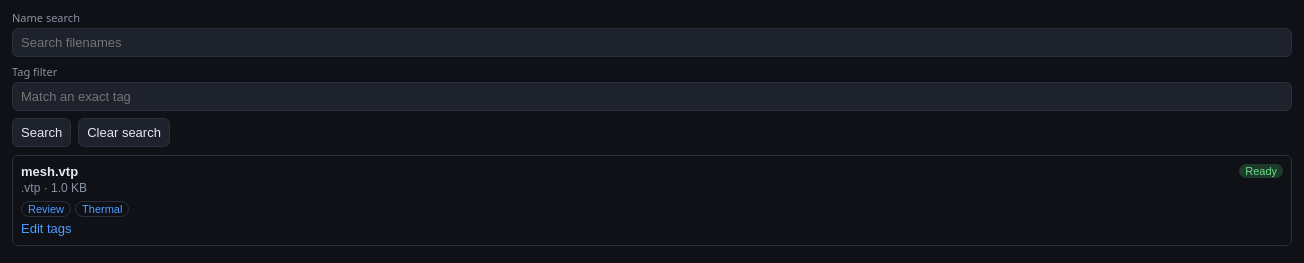
Scenario: DatasetList search › shows the filtered empty state
The width and height of the screenshot is (1304, 263).
Click the button "Search" at coordinates (42, 132), box left=12, top=118, right=71, bottom=147
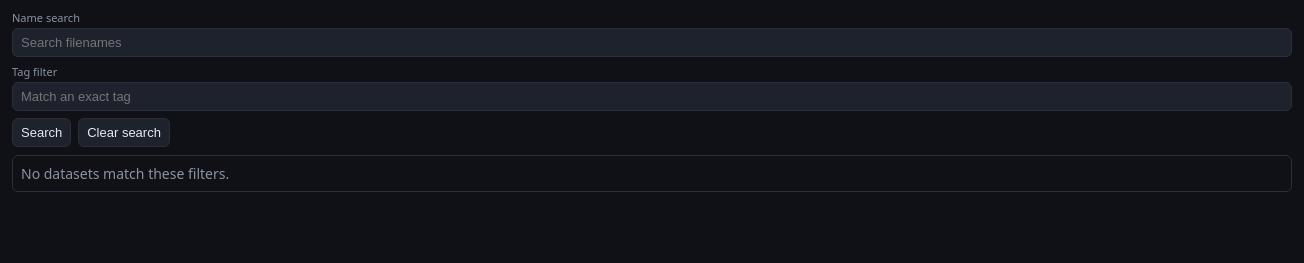
expect the list item "No datasets match these filters." is shown: met, box left=12, top=155, right=1292, bottom=192
